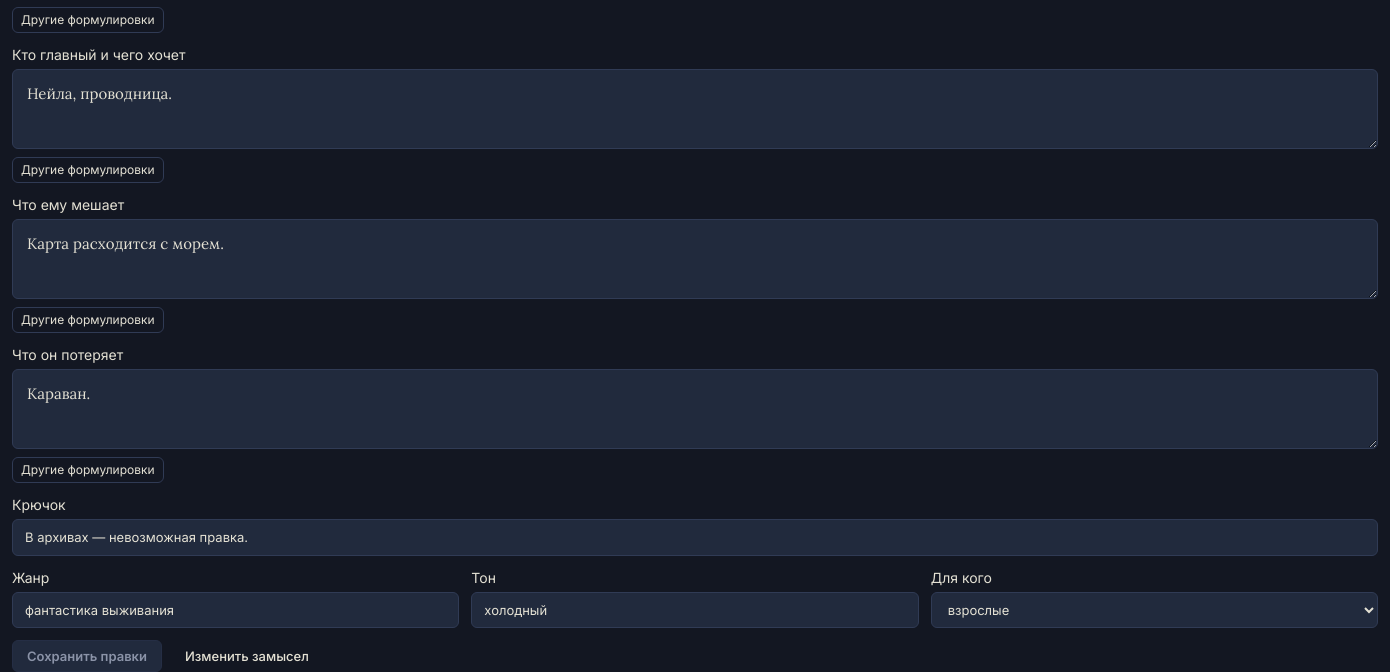
Test case: ConceptCard › shows an error and recovers when unlock fails
(page scrolled)
Click the button "Изменить замысел". click: click(247, 656)
box: [170, 640, 324, 671]
(page scrolled)
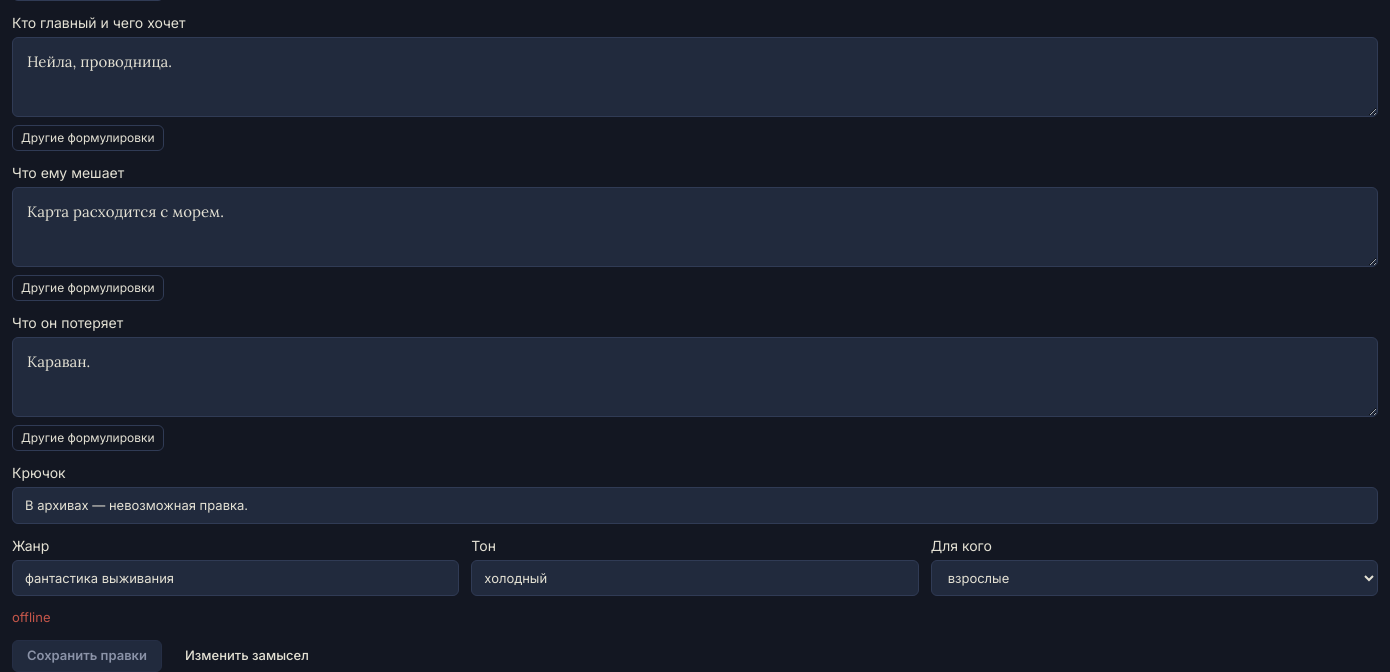
Check: the message reads "offline", box [12, 609, 50, 625]
